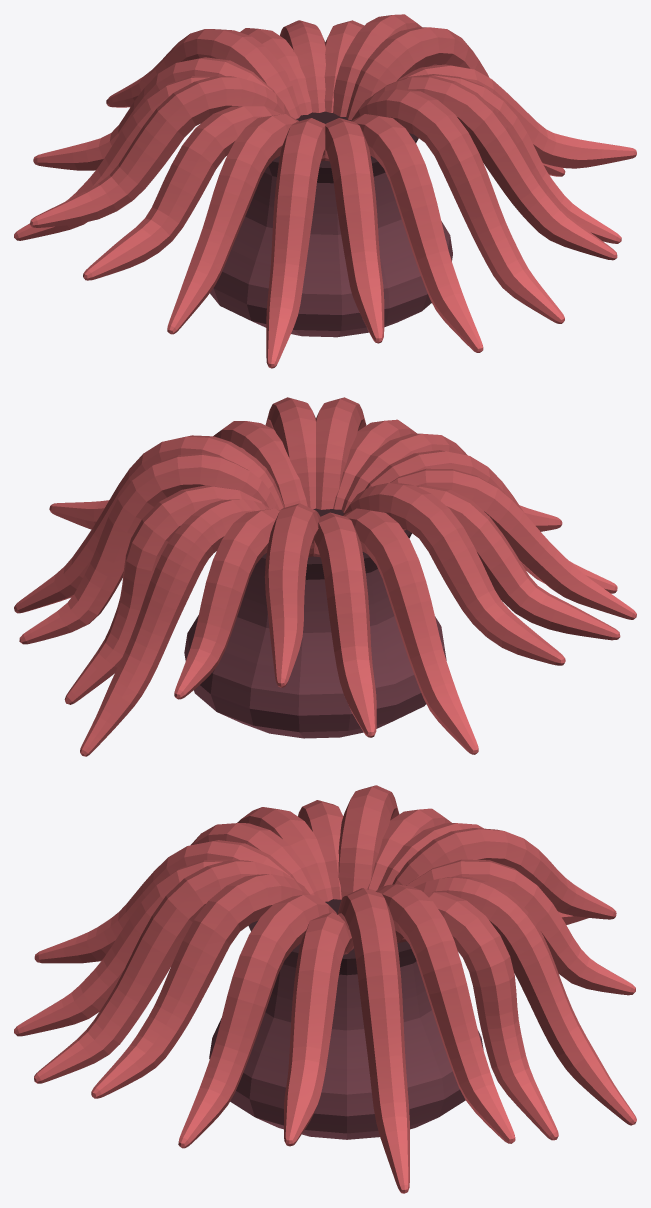
File: anemone.glb
3 views of the same model, one above another, from view 1: azimuth 30°, elevation 25°; view 2: azimuth 150°, elevation 25°; view 3: azimuth 270°, elevation 25° (orthographic). The views are drawn at different scales.
Visible parts, largest first — view 1: anemone_merged; view 2: anemone_merged; view 3: anemone_merged.
Boxes of the visible parts, left/top/right/bottom form: anemone_merged: left=14, top=14, right=636, bottom=368; anemone_merged: left=14, top=397, right=636, bottom=756; anemone_merged: left=14, top=785, right=636, bottom=1193.
Bounding box in the file's own units: 3.15 × 1.33 × 2.87.
1 material, 1 textured.
